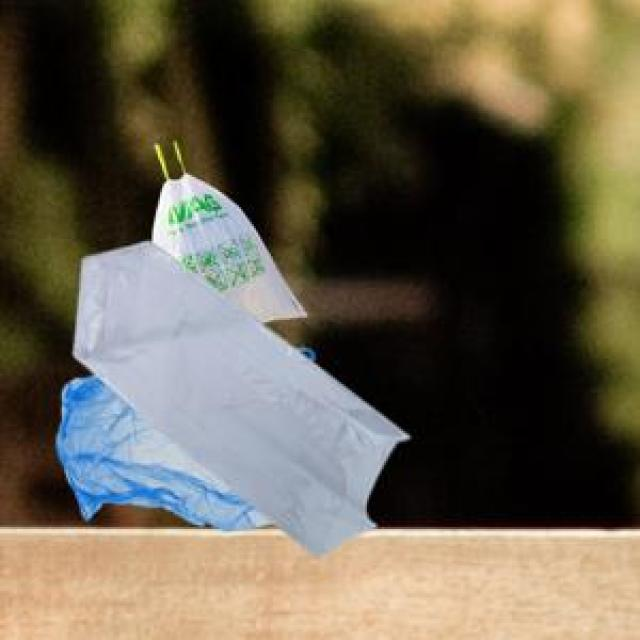plastic: (32, 122, 460, 593)
